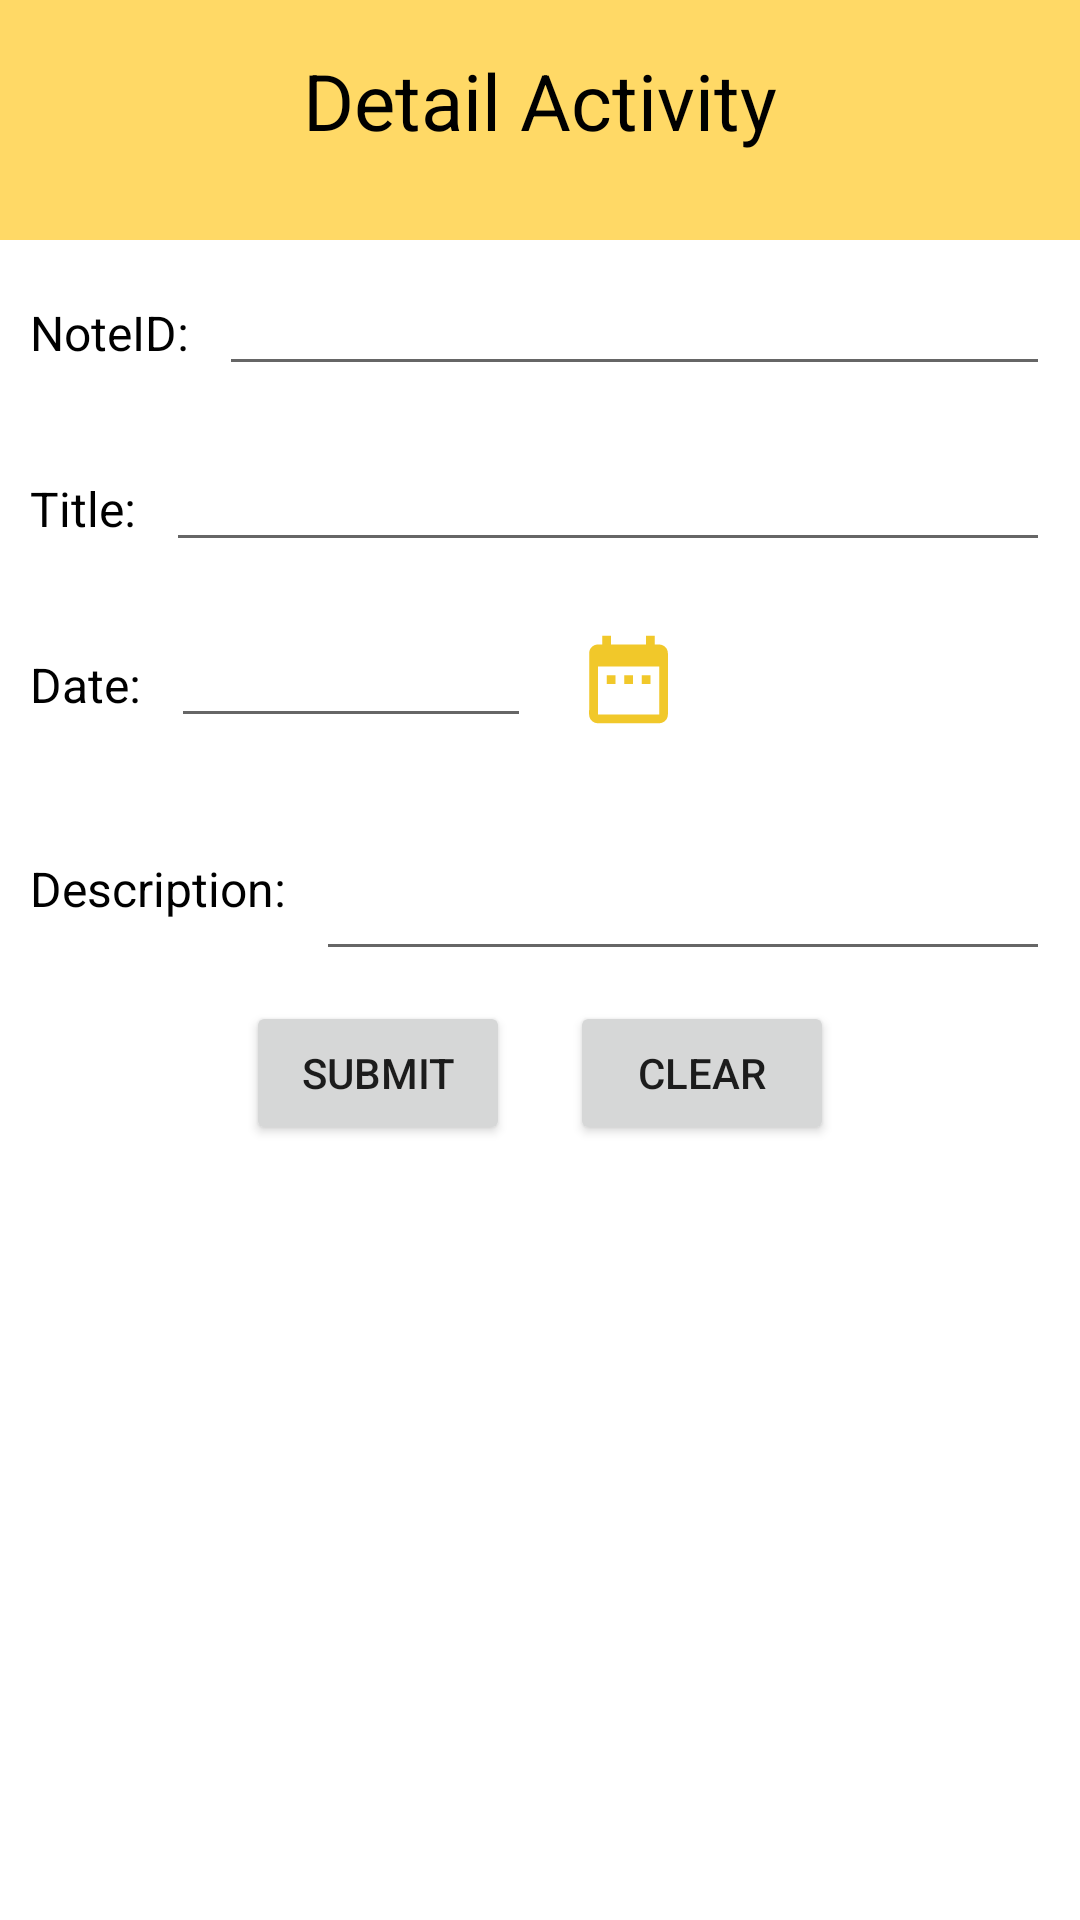

Point at icon controls on the screen. Image size 1080×1920, points as (x=x, y=y).
date range: (x=628, y=679)
